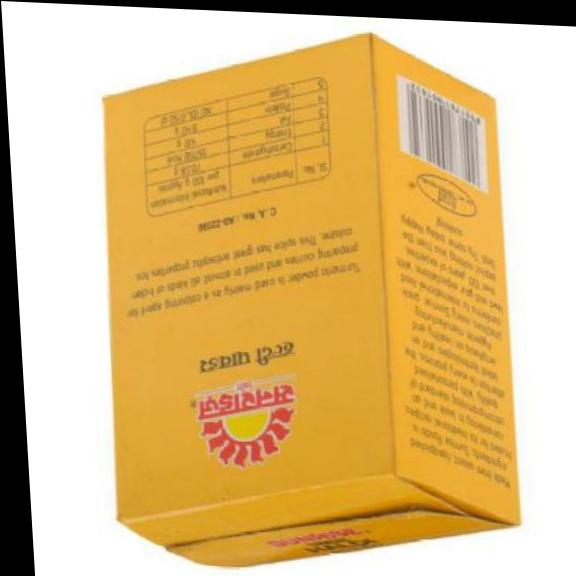Kertas: (103, 35, 520, 566)
